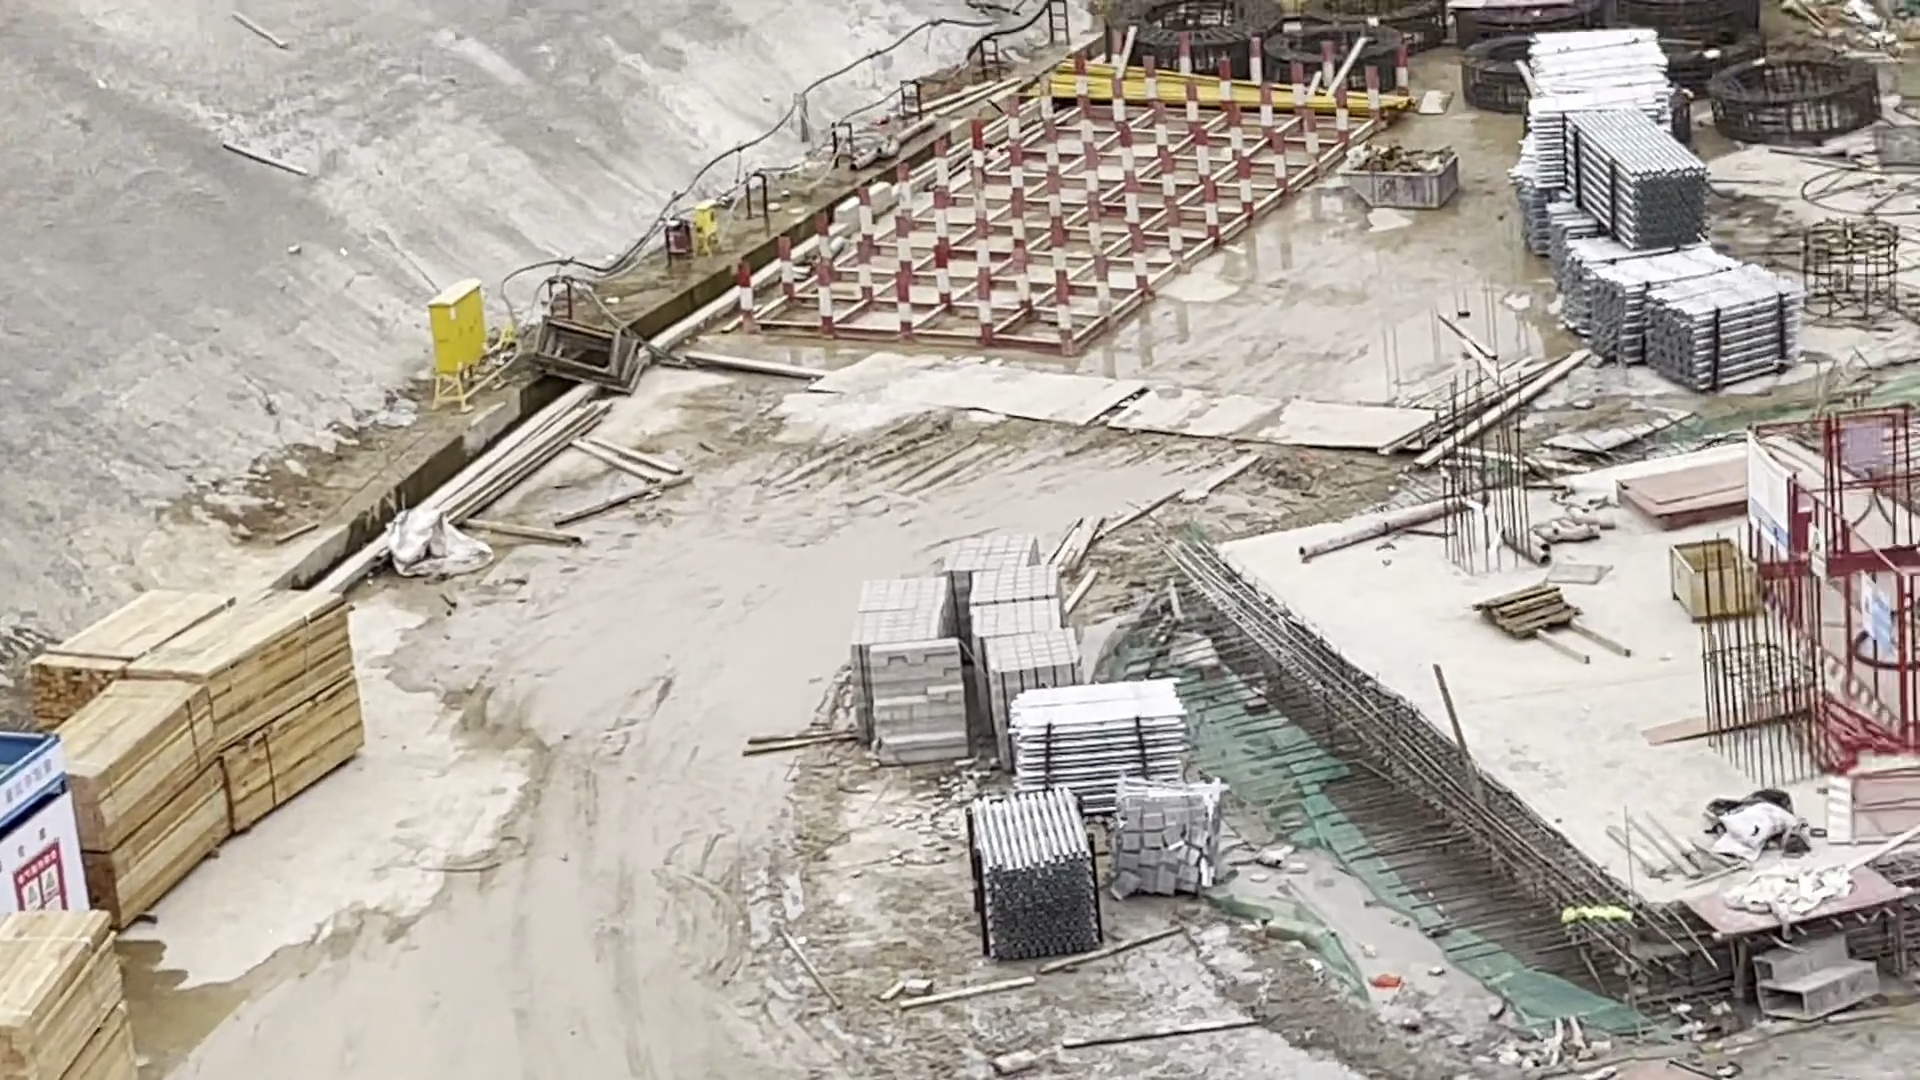brick: (833, 527, 1087, 771)
ebox: (411, 266, 495, 400), (684, 193, 727, 245)
fence: (1733, 388, 1920, 752)
hopper: (1325, 123, 1485, 247), (1668, 537, 1763, 632)
scaffold: (1522, 30, 1826, 397), (945, 782, 1117, 977), (998, 687, 1213, 796)
slogan: (1, 731, 125, 957), (1735, 433, 1799, 527), (1795, 505, 1836, 584), (1859, 560, 1890, 665)
wood: (34, 570, 415, 920), (1, 889, 173, 1080)
